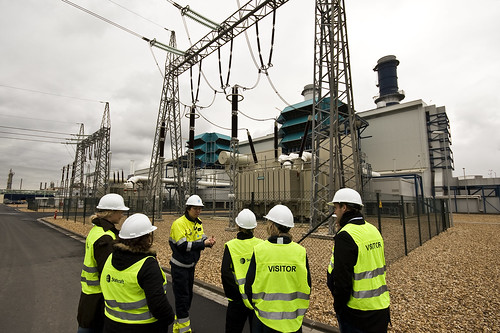person hardhat: (329, 183, 399, 331), (246, 202, 313, 333), (100, 214, 172, 333), (77, 192, 132, 330), (173, 193, 213, 333), (223, 206, 265, 333)
